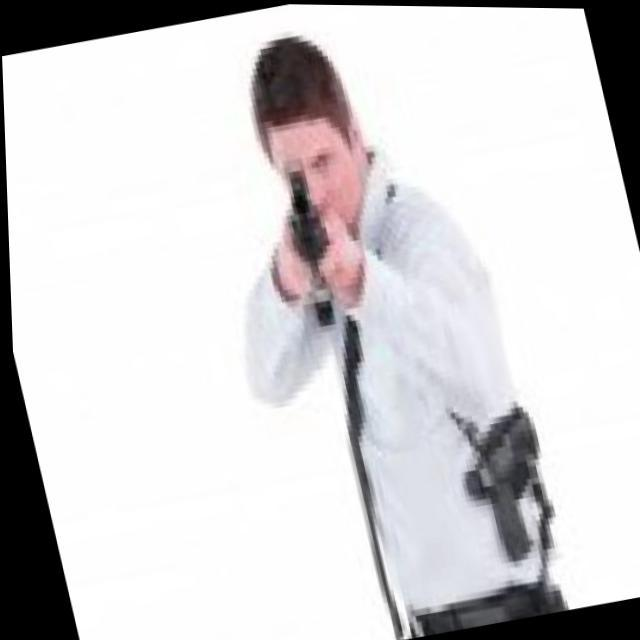weapon: (430, 395, 564, 588), (255, 148, 374, 354)
